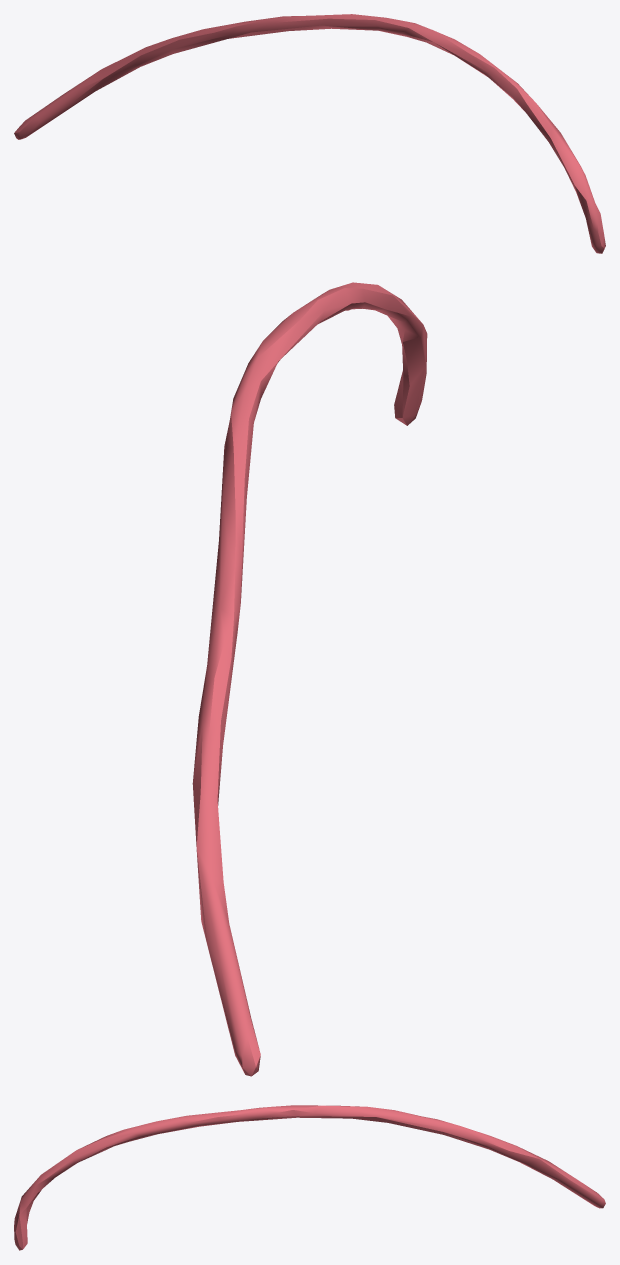
Rendered from fma50999_fj5219.glb.
3 renders of one model, top to bottom at view 1: azimuth 30°, elevation 25°; view 2: azimuth 150°, elevation 25°; view 3: azimuth 270°, elevation 25°, orthographic. The views are drawn at different scales.
Parts seen in each view (by area): view 1: FMA50999_FJ5219; view 2: FMA50999_FJ5219; view 3: FMA50999_FJ5219.
Boxes of the visible parts, x1,y1,x2,y2 form: FMA50999_FJ5219: (14,14,605,253); FMA50999_FJ5219: (192,282,427,1076); FMA50999_FJ5219: (14,1105,605,1250).
Size of the model in its own units: 0.0142 by 0.0113 by 0.0329.
